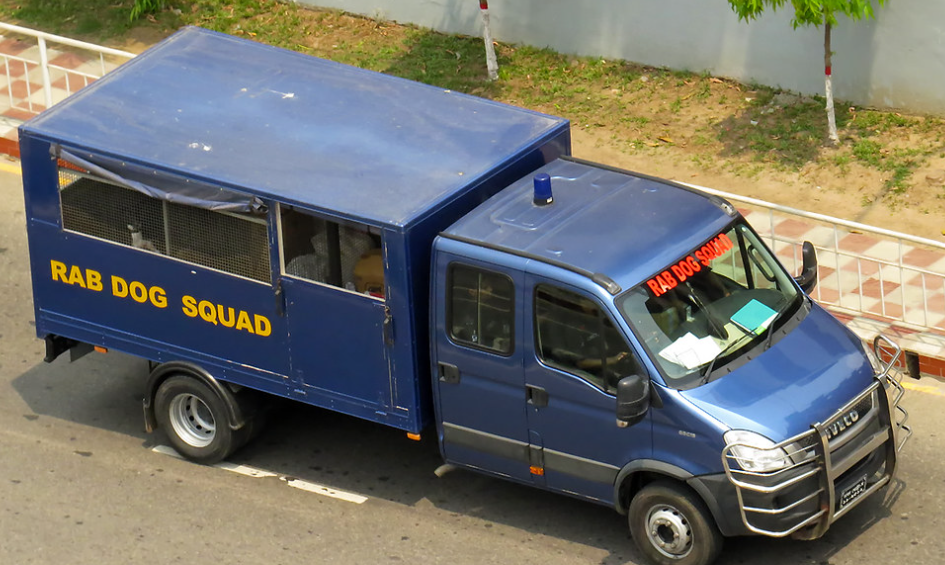Police cars: (13, 20, 926, 565)
